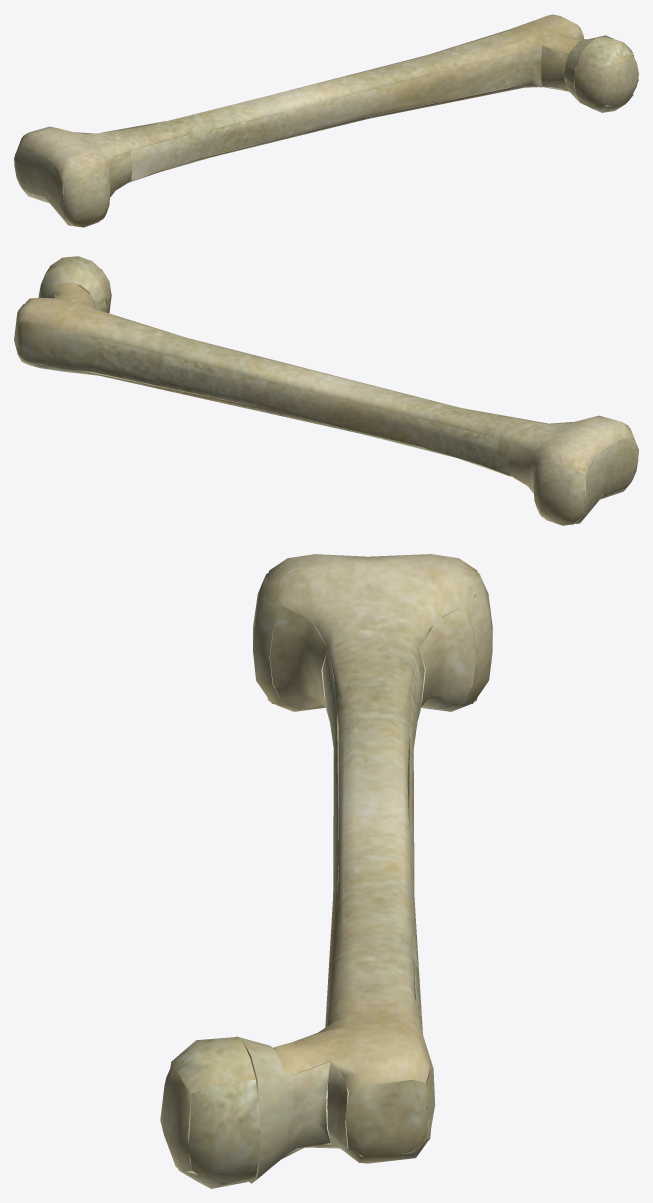
File: bone.glb
3 renders of one model, top to bottom at view 1: azimuth 30°, elevation 25°; view 2: azimuth 150°, elevation 25°; view 3: azimuth 270°, elevation 25°, orthographic. The views are drawn at different scales.
Parts seen in each view (by area): view 1: Bone_Bone_0; view 2: Bone_Bone_0; view 3: Bone_Bone_0.
Part boxes in pixels (box(x1,y1,x2,y2)): Bone_Bone_0: box(14, 14, 638, 227); Bone_Bone_0: box(14, 256, 638, 525); Bone_Bone_0: box(160, 554, 492, 1188).
Size of the model in its own units: 0.1568 by 0.02 by 0.0404.
1 material, 1 textured.
